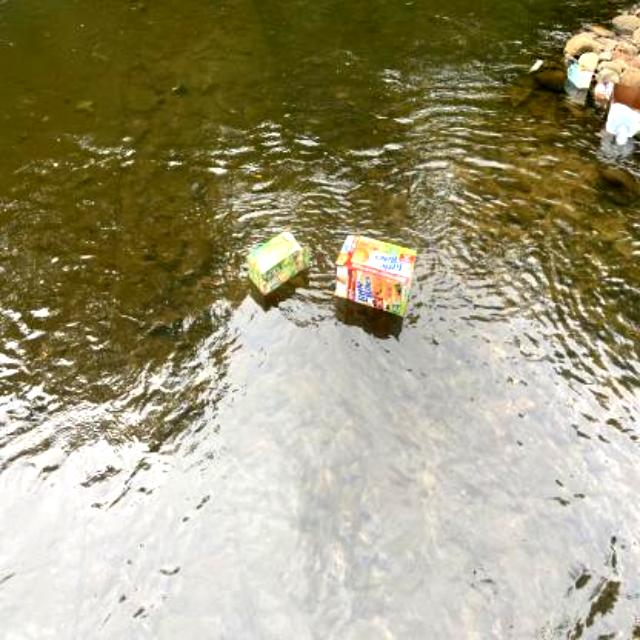Cardboard: (331, 230, 417, 320), (244, 226, 314, 294), (564, 60, 592, 90)
Plastic: (604, 79, 640, 145), (604, 81, 614, 101)
